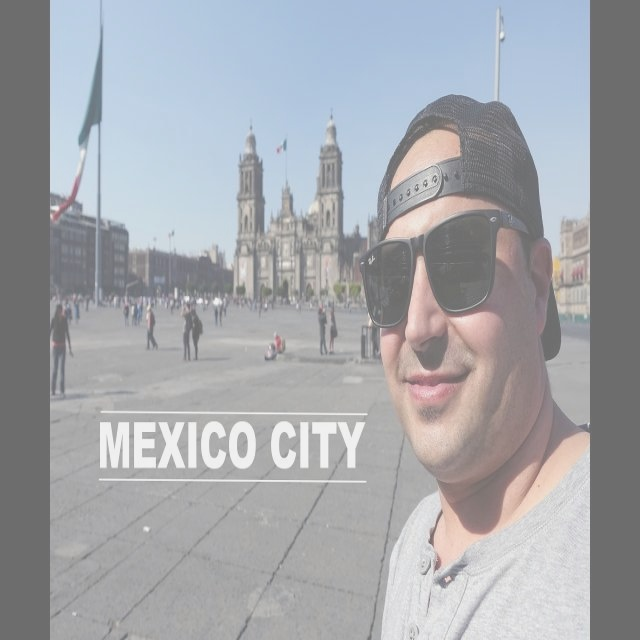pessoa: (358, 87, 590, 639), (49, 302, 74, 400), (104, 292, 180, 314), (318, 294, 368, 314), (262, 294, 316, 312), (179, 288, 223, 310), (189, 307, 203, 361), (50, 288, 84, 308), (223, 288, 253, 310), (560, 260, 586, 284), (183, 301, 193, 361), (144, 310, 158, 351), (317, 306, 328, 356), (145, 303, 156, 350), (271, 330, 287, 362), (328, 305, 338, 355), (371, 324, 381, 360), (263, 340, 277, 362), (64, 296, 74, 326), (122, 300, 130, 328), (134, 300, 142, 326), (73, 296, 80, 324), (130, 302, 136, 326), (133, 302, 139, 326), (138, 300, 144, 322), (218, 305, 224, 327), (214, 304, 218, 326), (85, 294, 89, 315), (258, 300, 262, 320), (222, 298, 226, 316), (254, 297, 258, 313)
